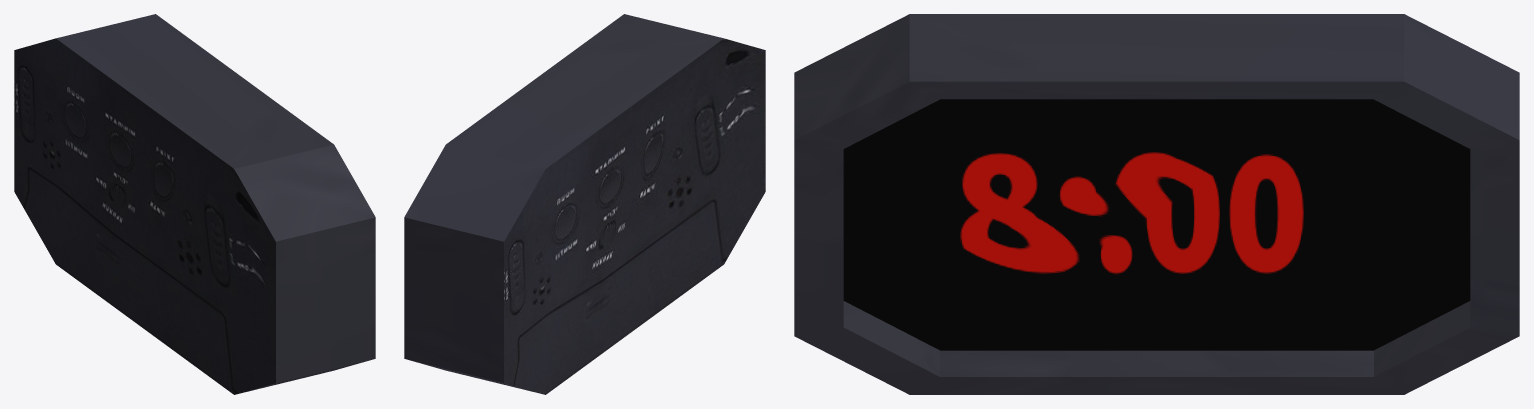
The model's file is alarm.fbx.
3 views of the same model, side by side, from view 1: azimuth 30°, elevation 25°; view 2: azimuth 150°, elevation 25°; view 3: azimuth 270°, elevation 25° (orthographic). The views are drawn at different scales.
Visible parts, largest first — view 1: Cube; view 2: Cube; view 3: Cube.
Boxes of the visible parts, x1,y1,x2,y2 form: Cube: [14, 14, 375, 394]; Cube: [404, 14, 765, 394]; Cube: [794, 14, 1519, 394].
Size of the model in its own units: 95.59 by 207 by 433.
2 materials, 2 textured.
